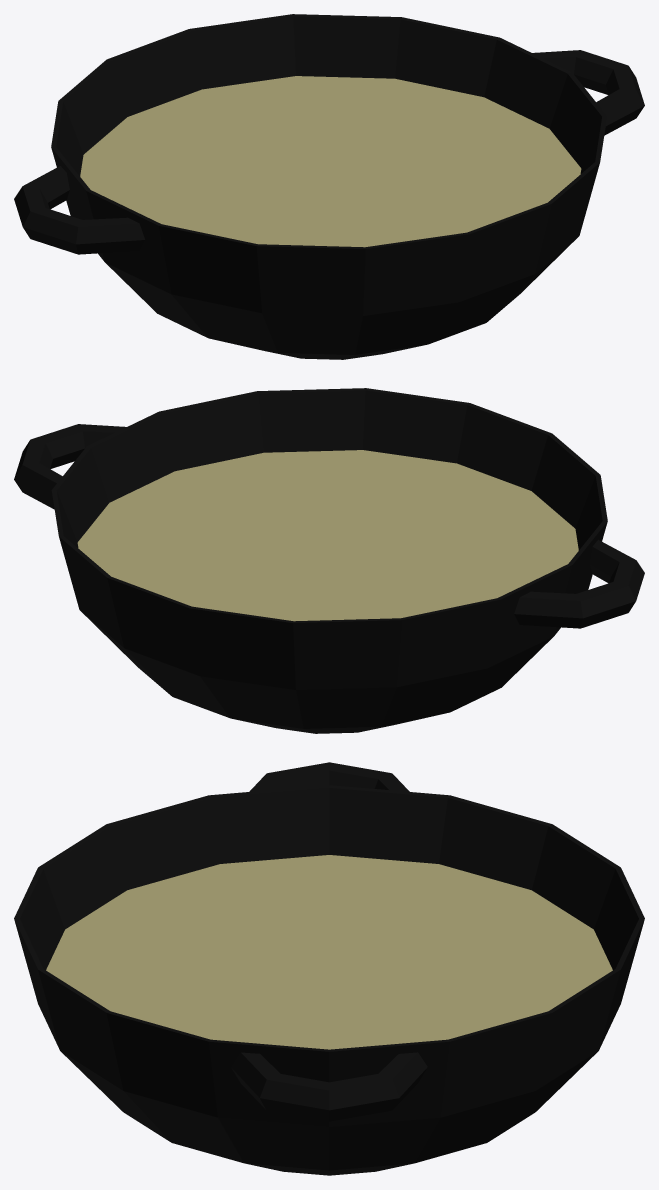
Rendered from nabe.fbx.
3 views of the same model, one above another, from view 1: azimuth 30°, elevation 25°; view 2: azimuth 150°, elevation 25°; view 3: azimuth 270°, elevation 25° (orthographic). The views are drawn at different scales.
Visible parts, largest first — view 1: トーラス; view 2: トーラス; view 3: トーラス.
Boxes of the visible parts, x1=… form: トーラス: x1=14, y1=14, x2=644, y2=359; トーラス: x1=14, y1=388, x2=644, y2=733; トーラス: x1=14, y1=762, x2=644, y2=1175.
Bounding box in the file's own units: 60.16 × 17.17 × 47.64.
1 material, 1 textured.
